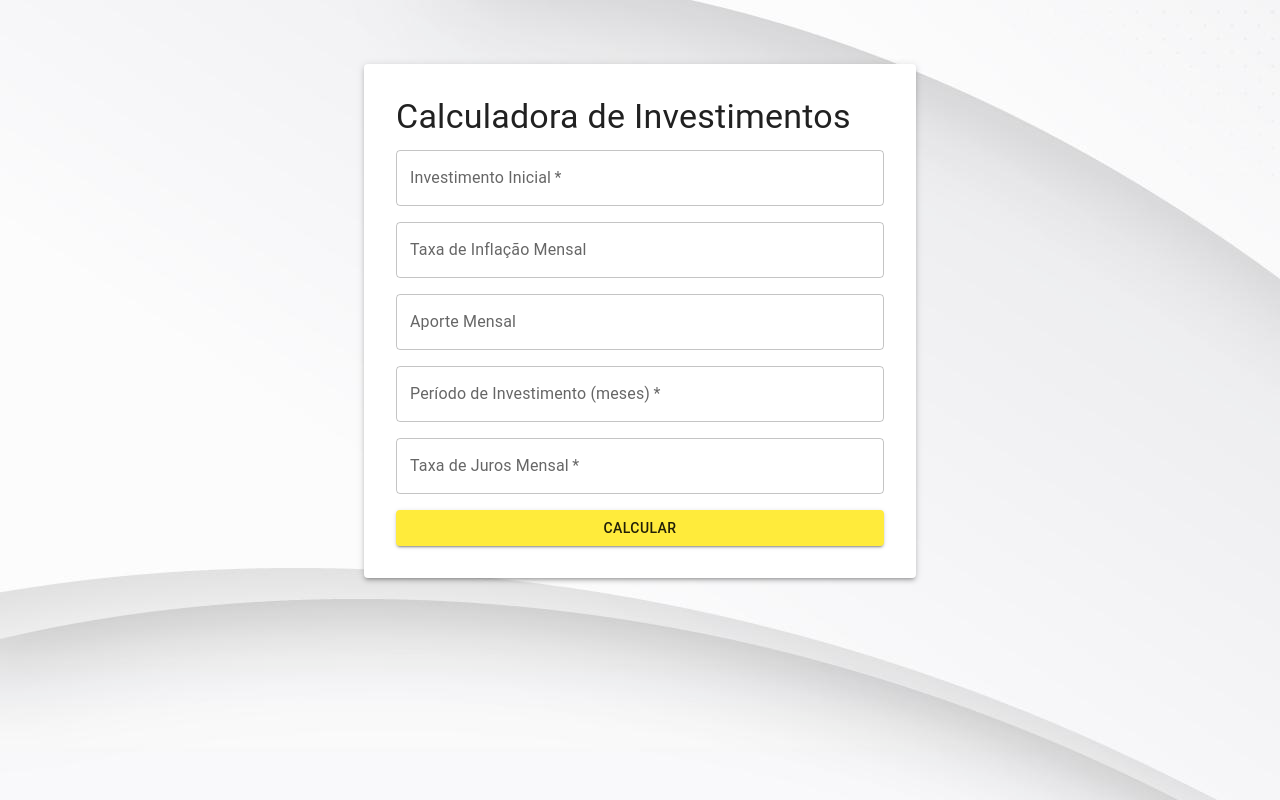
Test: InvestmentCalculator Component › calculates and displays results when form is submitted with valid inputs
Type "1000" into the number field labelled "Investimento Inicial *" at (640, 178), box [396,150,884,206]
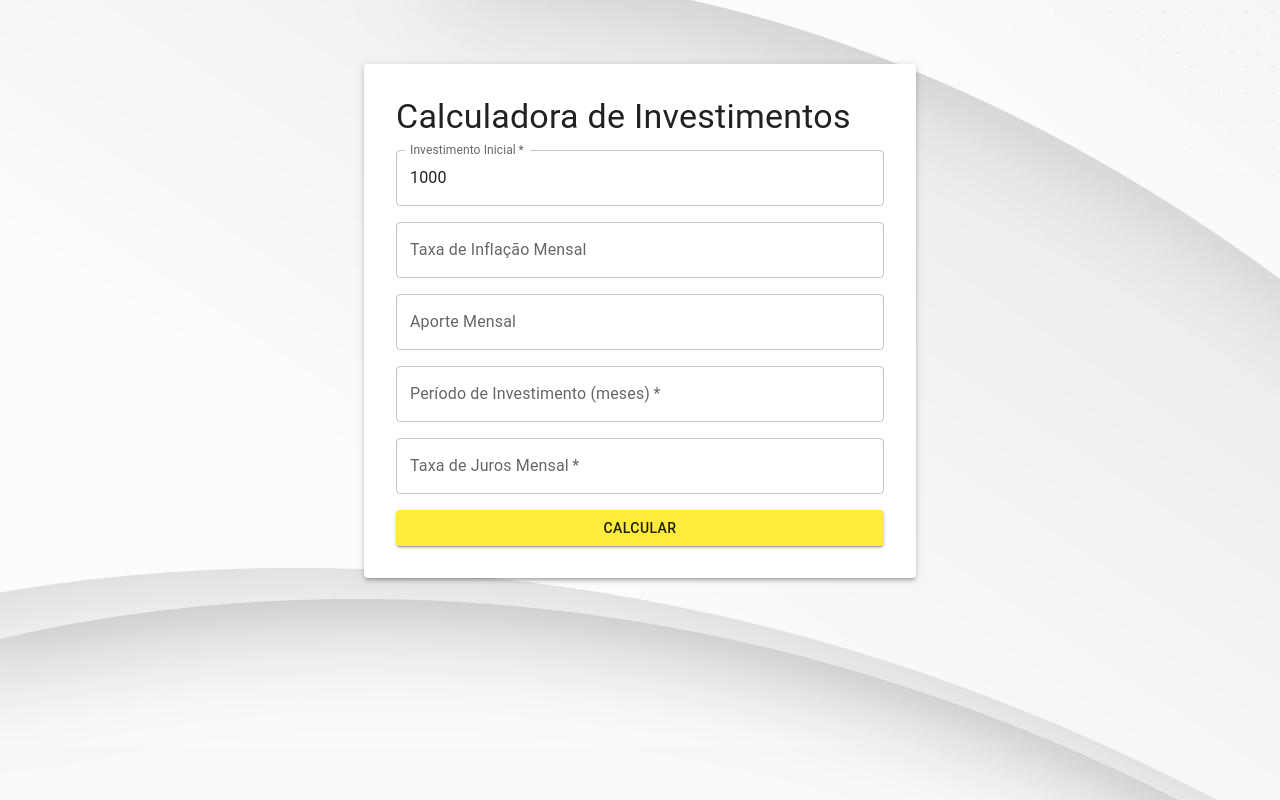
Type "0.5" into the number field labelled "Taxa de Inflação Mensal" at (640, 250), box [396,222,884,278]
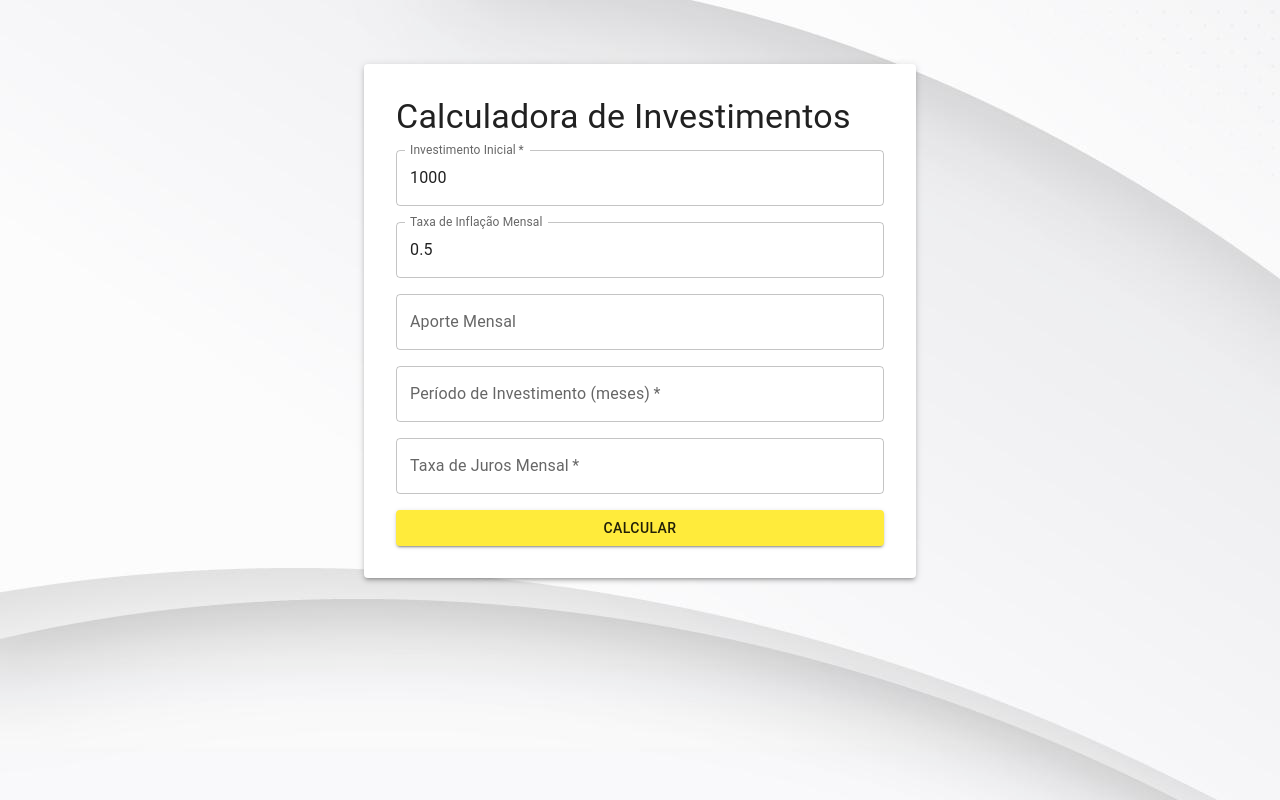
Type "100" into the number field labelled "Aporte Mensal" at (640, 322), box [396,294,884,350]
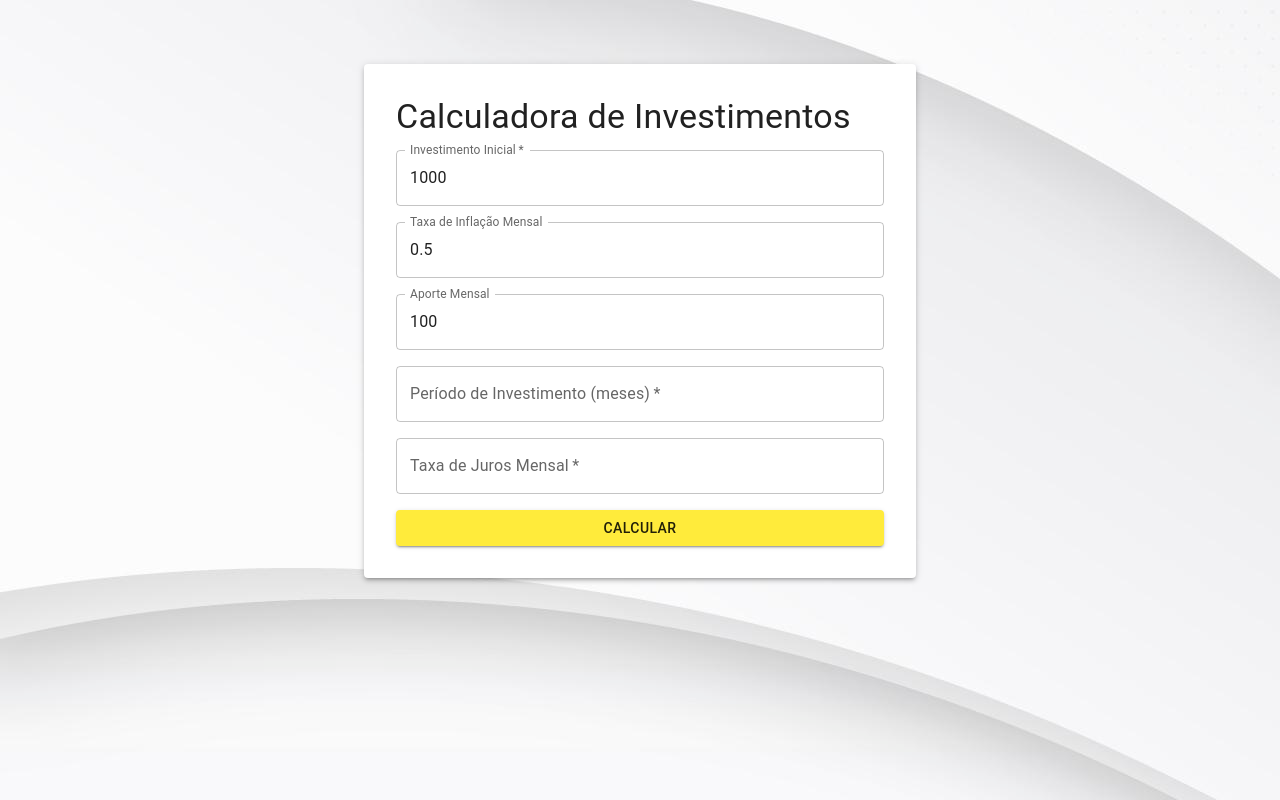
Type "12" into the number field labelled "Período de Investimento (meses) *" at (640, 394), box [396,366,884,422]
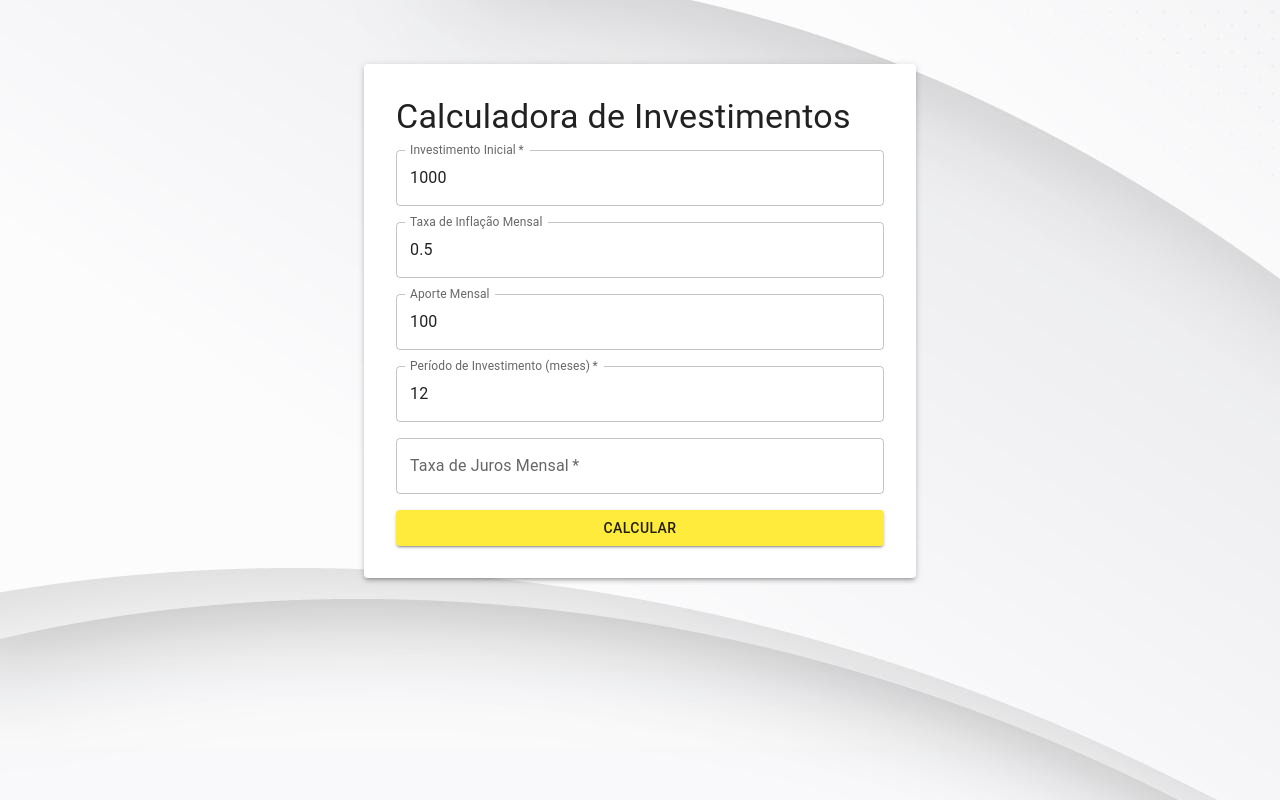
Type "1" into the number field labelled "Taxa de Juros Mensal *" at (640, 466), box [396,438,884,494]
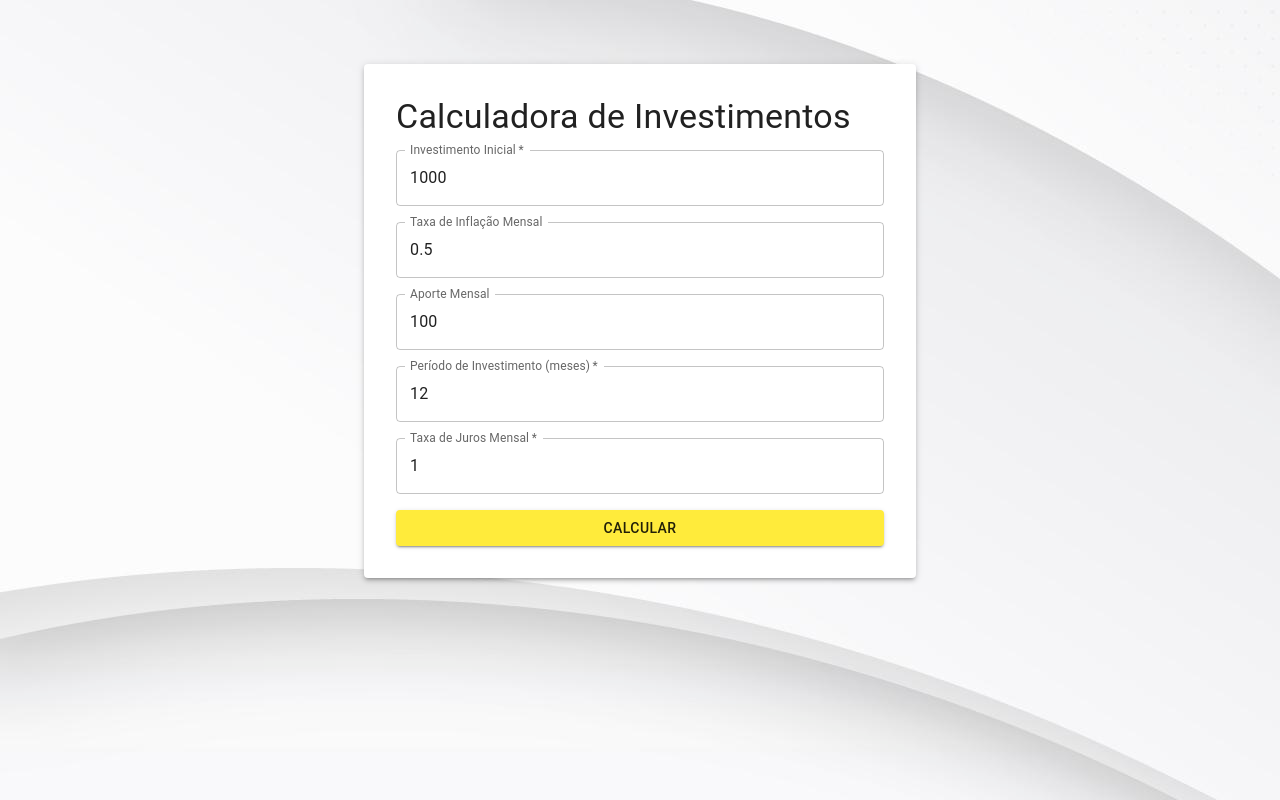
Click the button "Calcular" at (640, 528), box [396,510,884,546]
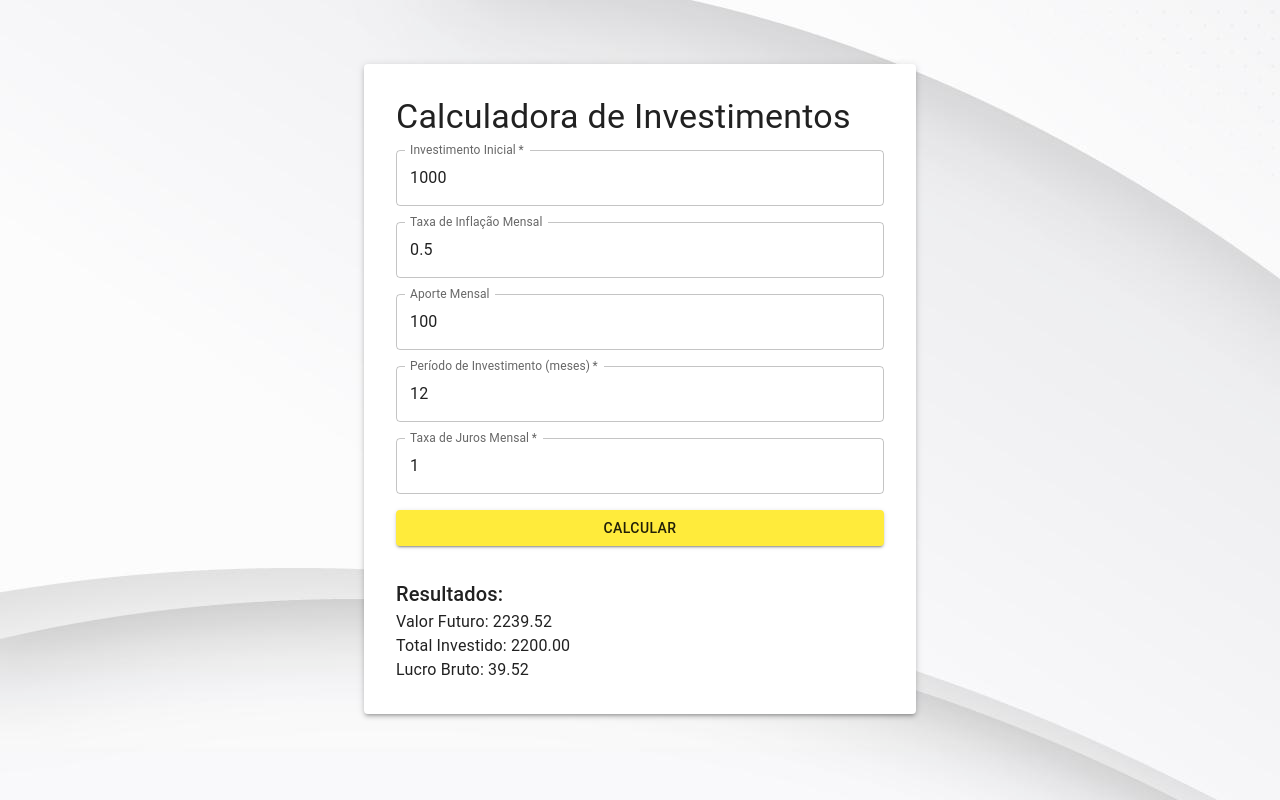
Now the heading "Resultados:" is shown, box [396,582,503,606]
Now the text "Valor Futuro: 2239.52" is shown, box [396,612,552,631]
Now the text "Total Investido: 2200.00" is shown, box [396,636,570,655]
